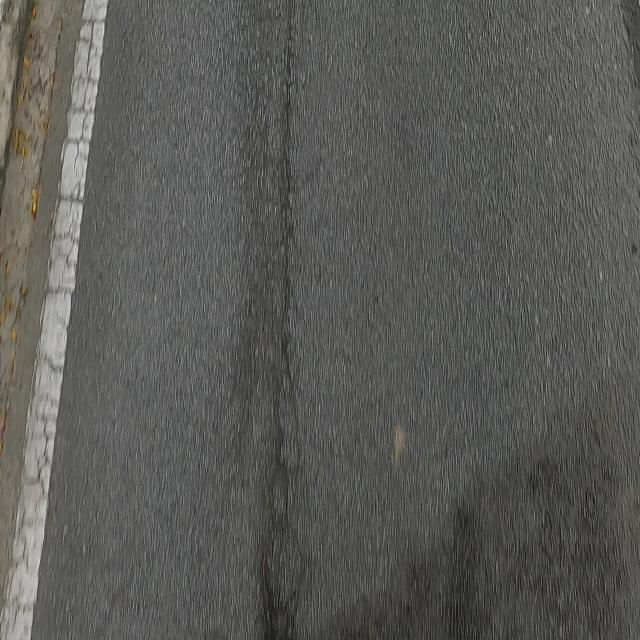Retak-Buaya: (7, 15, 106, 617)
Retak-Memanjang: (258, 0, 294, 640)
